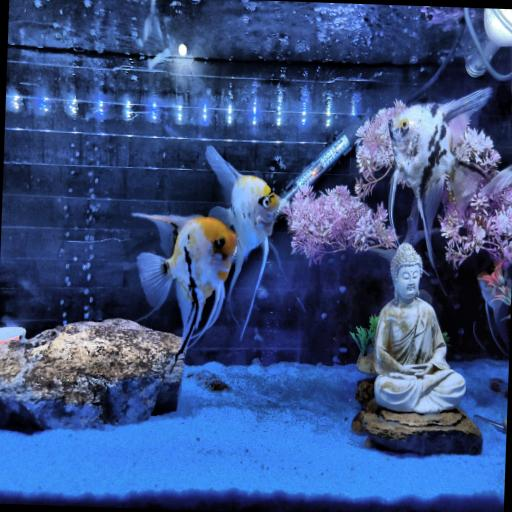Fish: (389, 88, 491, 265), (134, 214, 237, 362), (207, 147, 279, 338), (478, 262, 510, 350), (481, 164, 511, 195)
